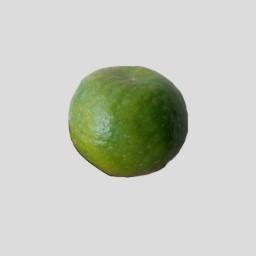Unripe: (71, 67, 189, 177)
